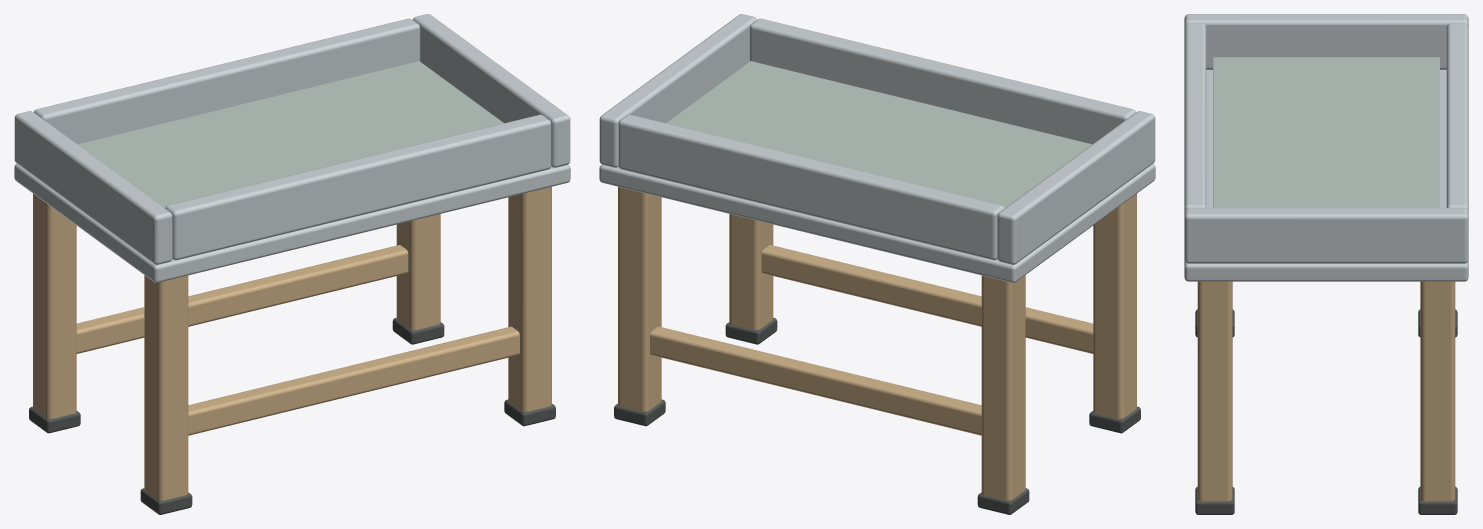
The model's file is bookbinding-and-paper-mill-paper-sizing-bath-2c2beedd__30554.glb.
3 views of the same model, side by side, from view 1: azimuth 30°, elevation 25°; view 2: azimuth 150°, elevation 25°; view 3: azimuth 270°, elevation 25° (orthographic).
Visible parts, largest first — view 1: paper-sizing-bath; view 2: paper-sizing-bath; view 3: paper-sizing-bath.
Boxes of the visible parts, box(x1,y1,x2,y2) form: paper-sizing-bath: box(14, 14, 570, 514); paper-sizing-bath: box(599, 14, 1155, 514); paper-sizing-bath: box(1184, 14, 1468, 514).
Bounding box in the file's own units: 1.1 × 0.77 × 0.65.
